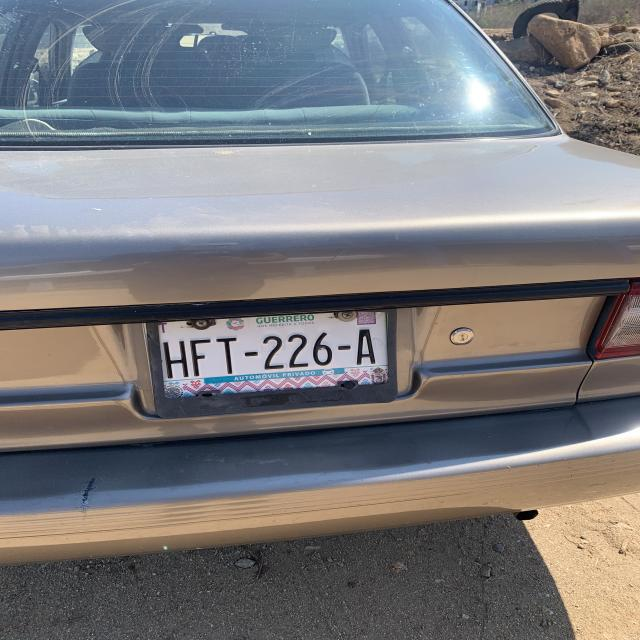placa: (150, 328, 390, 378)
